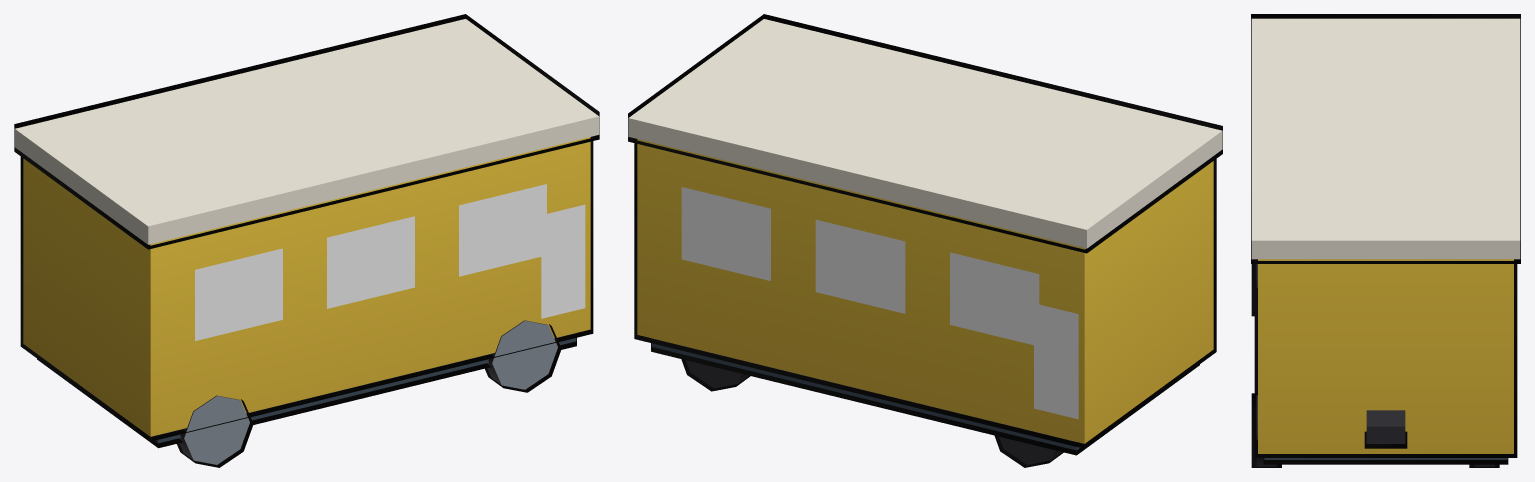
The model's file is BR_Zug_Wagen_C.glb.
The picture shows the model from 3 angles, left to right: view 1: azimuth 30°, elevation 25°; view 2: azimuth 150°, elevation 25°; view 3: azimuth 270°, elevation 25°; orthographic projection.
Parts seen in each view (by area): view 1: BR_Zug_Wagen_C_Mesh, BR_Zug_Wagen_C_Outline; view 2: BR_Zug_Wagen_C_Mesh, BR_Zug_Wagen_C_Outline; view 3: BR_Zug_Wagen_C_Mesh, BR_Zug_Wagen_C_Outline.
Boxes of the visible parts, x1,y1,x2,y2 form: BR_Zug_Wagen_C_Mesh: (14,19,599,464); BR_Zug_Wagen_C_Outline: (14,14,599,467); BR_Zug_Wagen_C_Mesh: (628,19,1222,464); BR_Zug_Wagen_C_Outline: (628,14,1222,467); BR_Zug_Wagen_C_Mesh: (1251,18,1520,466); BR_Zug_Wagen_C_Outline: (1251,14,1520,467).
Size of the model in its own units: 4.37 by 2.29 by 2.11.
